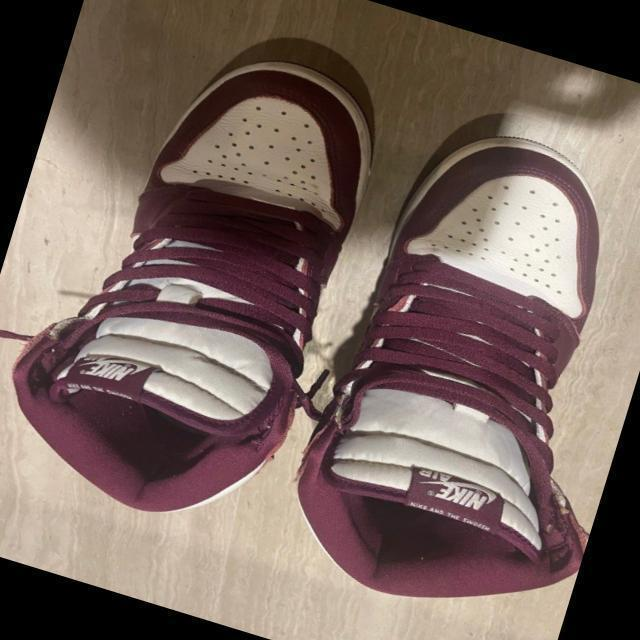nike original jordan 1: (0, 8, 401, 560), (268, 100, 640, 640)
